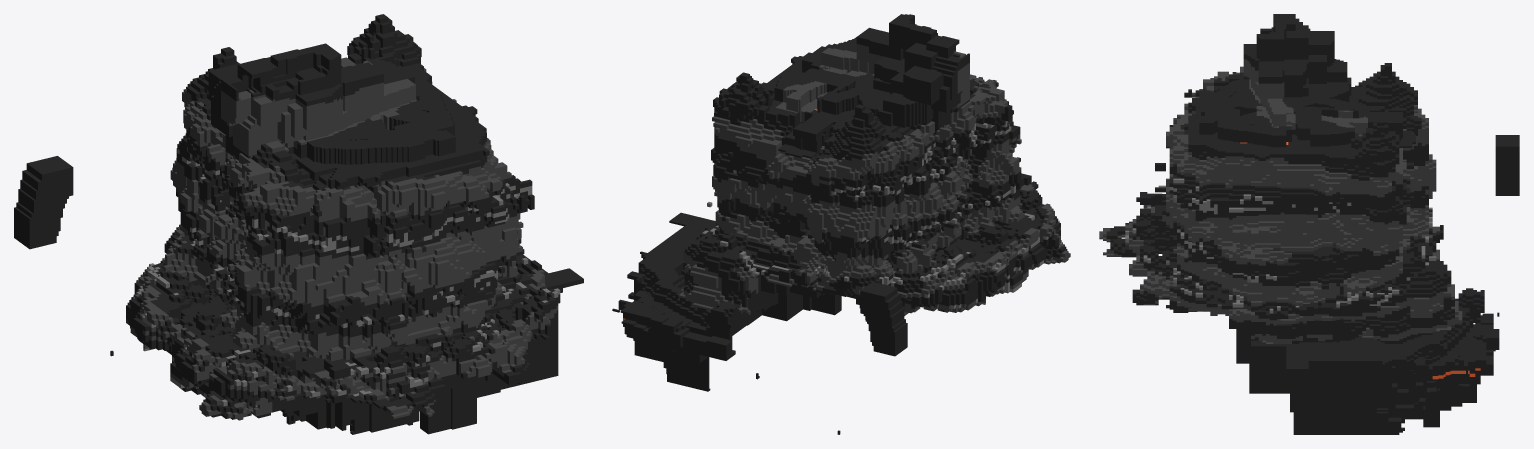
File: Lava_stuff-19.obj
The picture shows the model from 3 angles, left to right: view 1: azimuth 30°, elevation 25°; view 2: azimuth 150°, elevation 25°; view 3: azimuth 270°, elevation 25°; orthographic projection. The views are drawn at different scales.
Size of the model in its own units: 20.8 by 18.2 by 22.7.
Materials: 1 (1 with a texture image).
